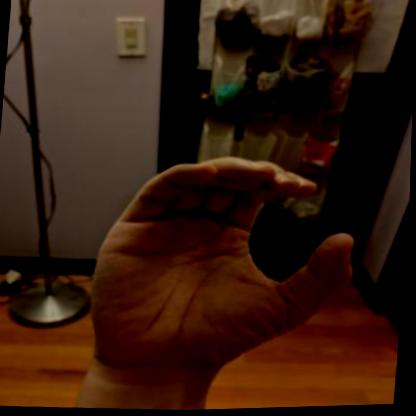C: (78, 142, 373, 391)
